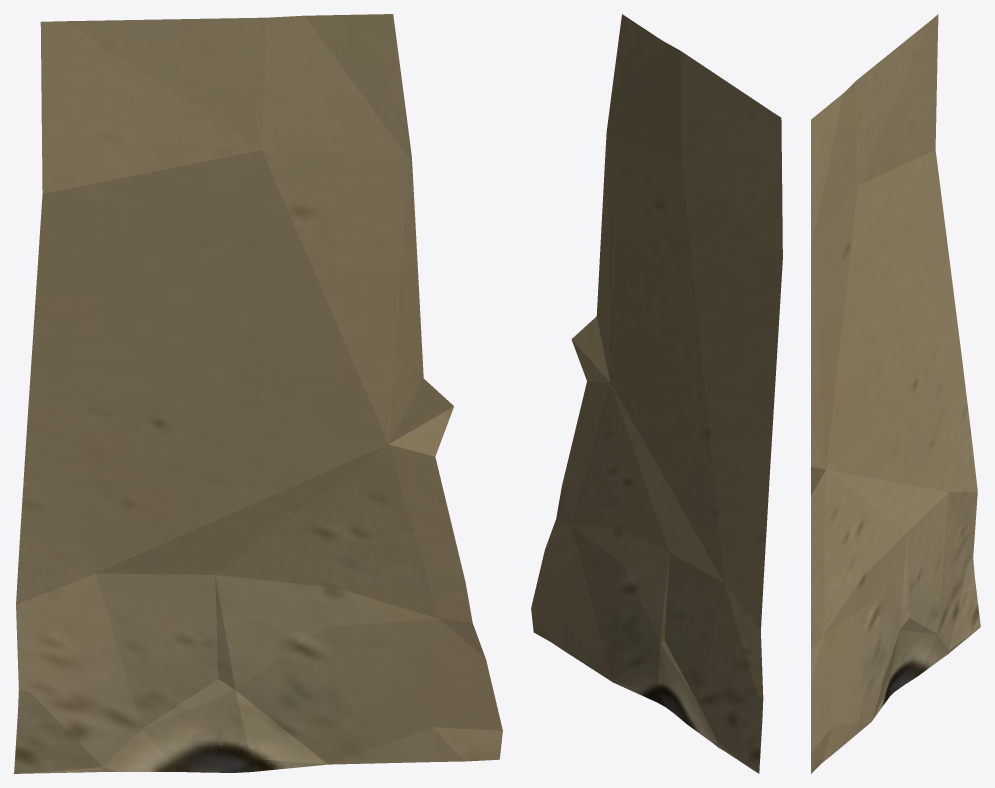
3 renders of one model, left to right at view 1: azimuth 30°, elevation 25°; view 2: azimuth 150°, elevation 25°; view 3: azimuth 270°, elevation 25°, orthographic. The views are drawn at different scales.
Bounding box in the file's own units: 0.4338 × 0.8374 × 0.2101.
Materials: 1 (1 with a texture image).
